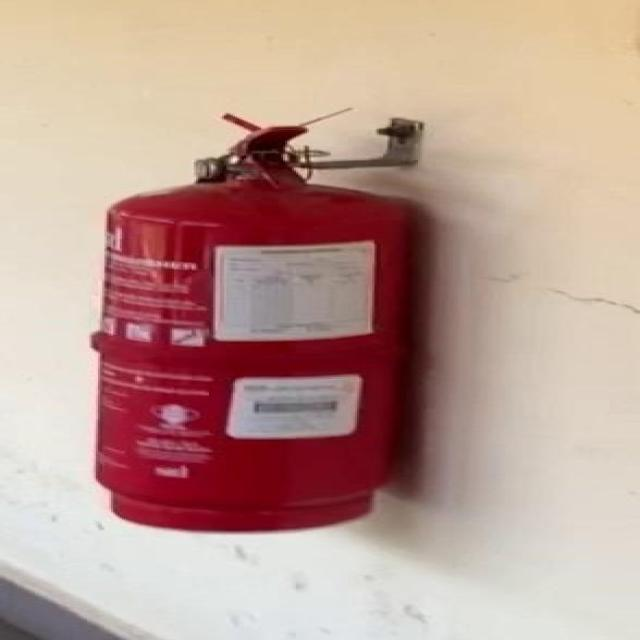fire_extinguisher: (69, 121, 428, 537)
